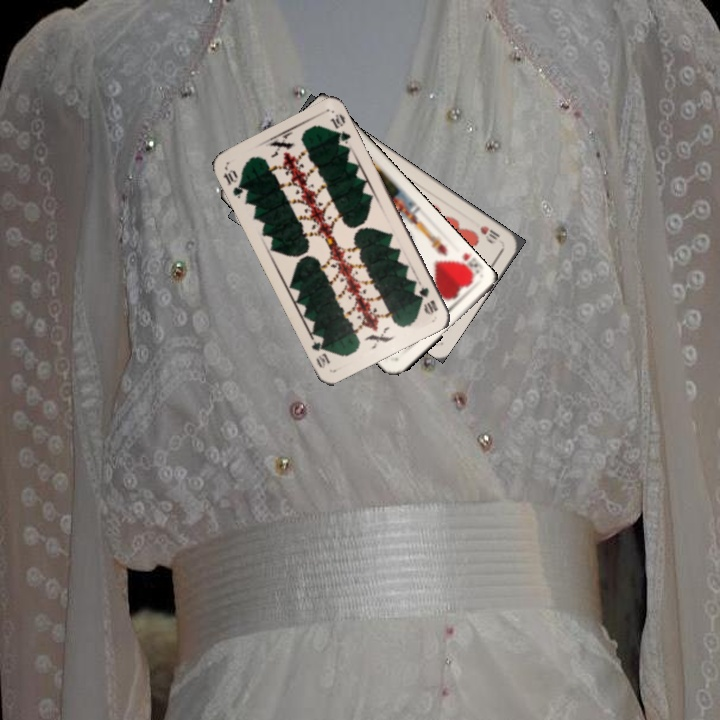G10: (219, 165, 247, 201), (415, 283, 441, 318)
H10: (475, 221, 503, 242)
HK: (453, 249, 482, 281)
